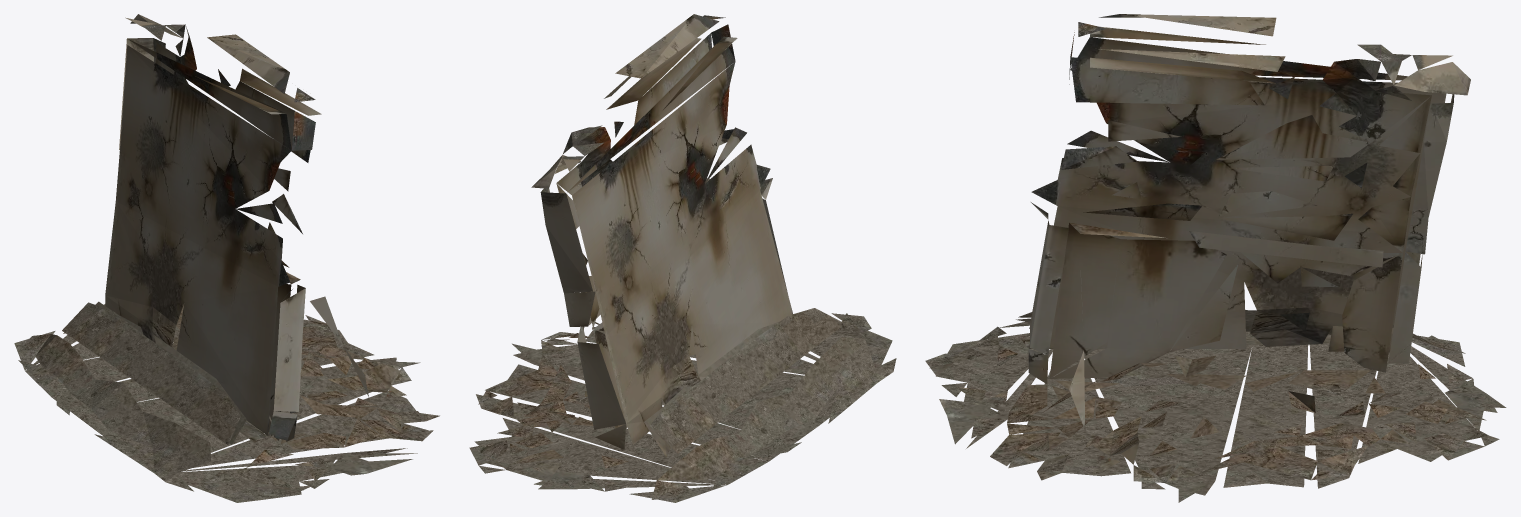
File: ruined_wall_LOD2.glb
The picture shows the model from 3 angles, left to right: view 1: azimuth 30°, elevation 25°; view 2: azimuth 150°, elevation 25°; view 3: azimuth 270°, elevation 25°; orthographic projection. The views are drawn at different scales.
Visible parts, largest first — view 1: ruined_wall_LOD2; view 2: ruined_wall_LOD2; view 3: ruined_wall_LOD2.
Part boxes in pixels (x1=…): ruined_wall_LOD2: x1=14, y1=14, x2=439, y2=502; ruined_wall_LOD2: x1=469, y1=14, x2=896, y2=502; ruined_wall_LOD2: x1=925, y1=14, x2=1506, y2=502.
Size of the model in its own units: 0.7266 by 0.7501 by 0.9864.
1 material, 1 textured.
